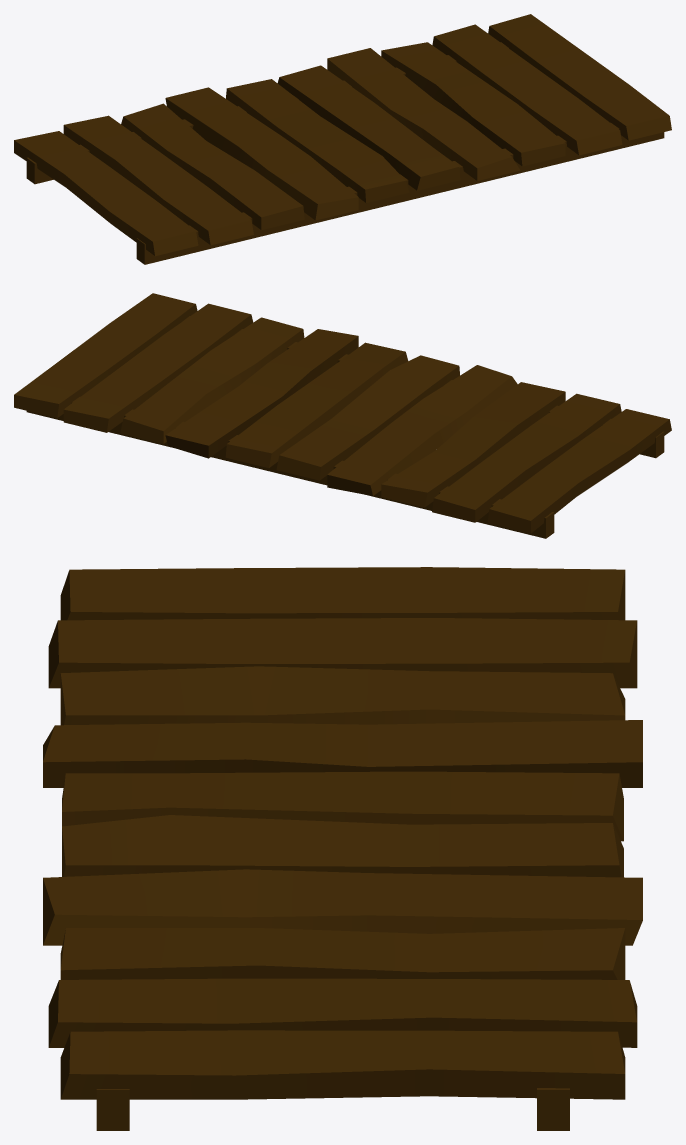
File: WoodWalkway_NoSUpp.fbx
3 renders of one model, top to bottom at view 1: azimuth 30°, elevation 25°; view 2: azimuth 150°, elevation 25°; view 3: azimuth 270°, elevation 25°, orthographic. The views are drawn at different scales.
Visible parts, largest first — view 1: polySurface133, polySurface134, polySurface136, polySurface131, polySurface127, polySurface126, polySurface129, polySurface135, polySurface130, polySurface132, polySurface125, polySurface128; view 2: polySurface133, polySurface134, polySurface136, polySurface131, polySurface127, polySurface126, polySurface135, polySurface129, polySurface130, polySurface132, polySurface128, polySurface125; view 3: polySurface129, polySurface127, polySurface131, polySurface136, polySurface133, polySurface132, polySurface130, polySurface134, polySurface126, polySurface135, polySurface125, polySurface128.
Part boxes in pixels (x1,y1,x2,y2): polySurface133: [165, 87, 358, 220]; polySurface134: [14, 131, 198, 256]; polySurface136: [63, 115, 253, 245]; polySurface131: [432, 24, 622, 155]; polySurface127: [327, 48, 520, 180]; polySurface126: [381, 42, 565, 166]; polySurface129: [488, 14, 671, 140]; polySurface135: [226, 79, 409, 202]; polySurface130: [277, 65, 460, 190]; polySurface132: [121, 103, 304, 230]; polySurface125: [136, 122, 664, 264]; polySurface128: [26, 42, 508, 184]; polySurface133: [327, 365, 517, 495]; polySurface134: [487, 409, 671, 533]; polySurface136: [432, 393, 621, 522]; polySurface131: [63, 303, 253, 432]; polySurface127: [165, 329, 358, 458]; polySurface126: [120, 317, 304, 443]; polySurface135: [276, 355, 459, 480]; polySurface129: [14, 293, 197, 417]; polySurface130: [225, 342, 408, 467]; polySurface132: [381, 382, 565, 507]; polySurface128: [26, 396, 554, 538]; polySurface125: [184, 316, 664, 458]; polySurface129: [60, 1030, 625, 1099]; polySurface127: [43, 869, 642, 945]; polySurface131: [48, 978, 637, 1047]; polySurface136: [48, 618, 637, 688]; polySurface133: [43, 720, 642, 787]; polySurface132: [60, 666, 625, 725]; polySurface130: [62, 815, 623, 877]; polySurface134: [60, 567, 625, 620]; polySurface126: [60, 928, 625, 979]; polySurface135: [62, 771, 623, 841]; polySurface125: [96, 1089, 129, 1130]; polySurface128: [537, 1088, 569, 1130].
Bounding box in the file's own units: 25.58 × 1.55 × 12.79.
